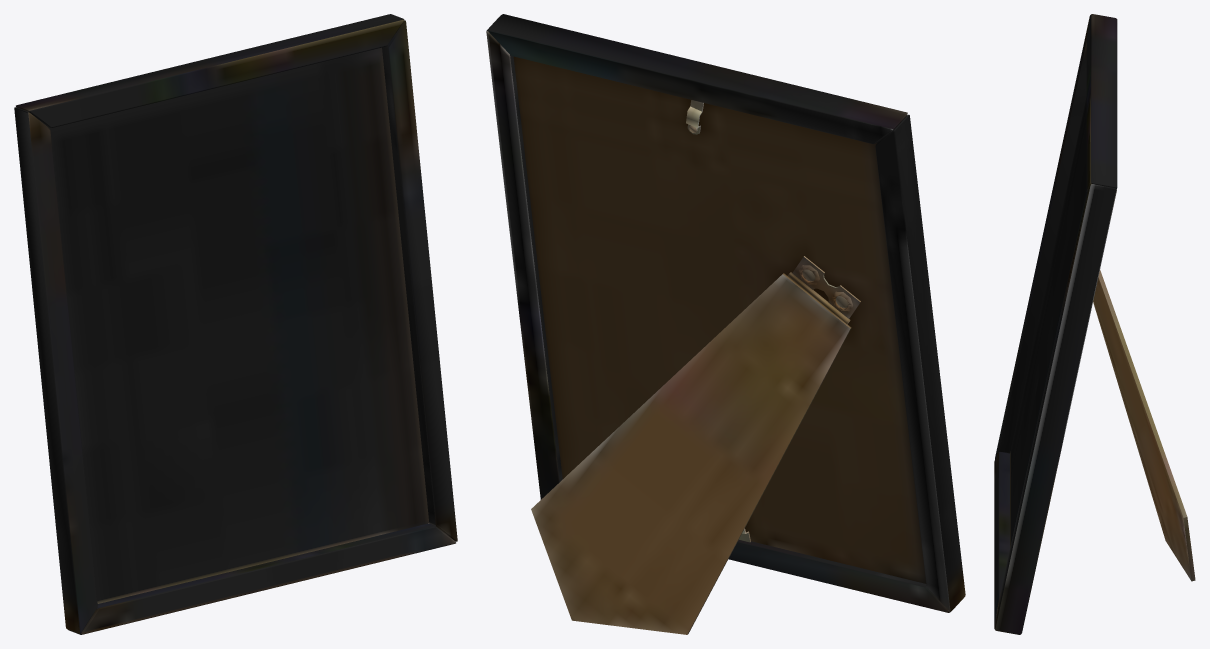
3 views of the same model, side by side, from view 1: azimuth 30°, elevation 25°; view 2: azimuth 150°, elevation 25°; view 3: azimuth 270°, elevation 25° (orthographic). The views are drawn at different scales.
Parts seen in each view (by area): view 1: standing_picture_frame_01; view 2: standing_picture_frame_01; view 3: standing_picture_frame_01.
Part boxes in pixels (x1,y1,x2,y2): standing_picture_frame_01: [14, 14, 457, 634]; standing_picture_frame_01: [486, 14, 965, 634]; standing_picture_frame_01: [994, 14, 1195, 634].
Bounding box in the file's own units: 0.2008 × 0.2497 × 0.1003.
Materials: 3 (3 with a texture image).
